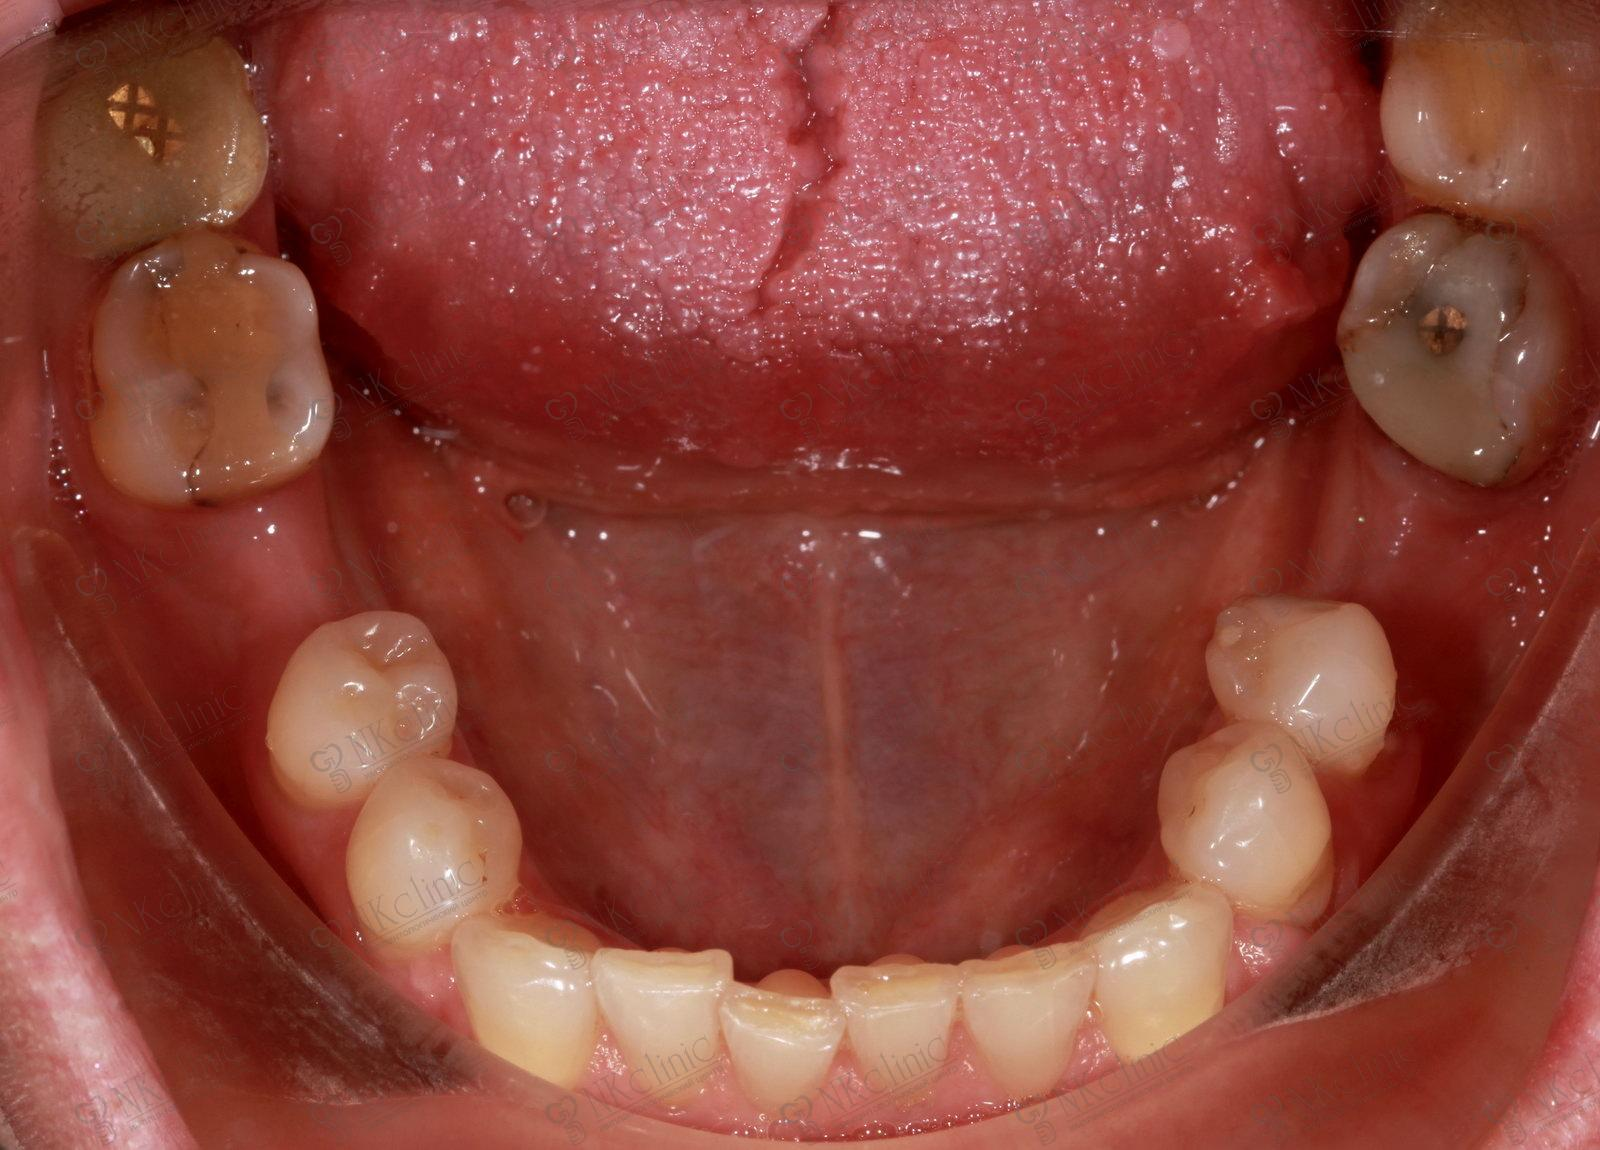LL1BC_healthy: (1155, 727, 1334, 931)
LL2BC_healthy: (1209, 594, 1395, 782)
LL2M_decay: (1355, 224, 1585, 482)
LL3M_healthy: (1379, 30, 1598, 222)
LLCI_healthy: (834, 956, 959, 1089)
LLC_healthy: (1089, 878, 1229, 1056)
LLLI_healthy: (964, 949, 1089, 1097)
LR1BC_healthy: (355, 756, 512, 944)
LR2BC_healthy: (270, 611, 452, 801)
LR2M_decay: (94, 246, 333, 492)
LR3M_decay: (62, 47, 272, 242)
LRCI_healthy: (725, 966, 839, 1104)
LRC_healthy: (458, 904, 596, 1071)
LRLI_healthy: (591, 940, 727, 1097)
